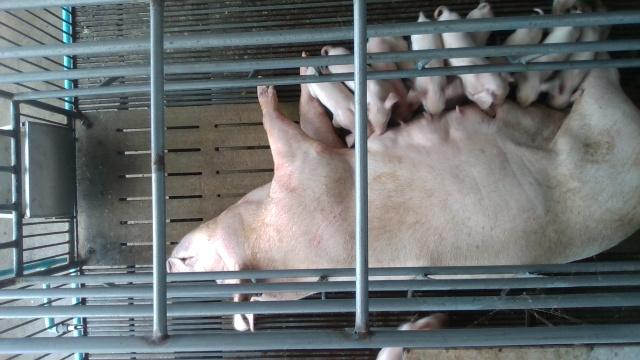piglet: (437, 7, 515, 105), (321, 44, 399, 132), (306, 64, 375, 149), (544, 25, 608, 111), (403, 9, 454, 116), (516, 28, 580, 106)
sow-sleep-lactate: (167, 48, 640, 333)
